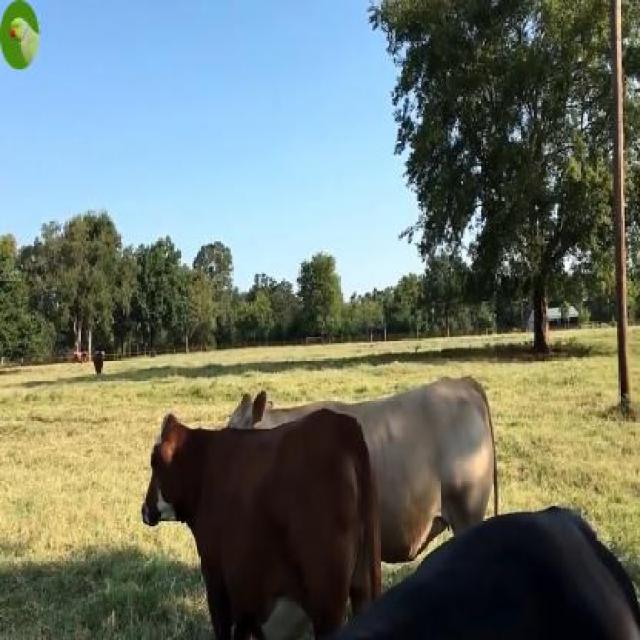Cow: (142, 409, 380, 637)
